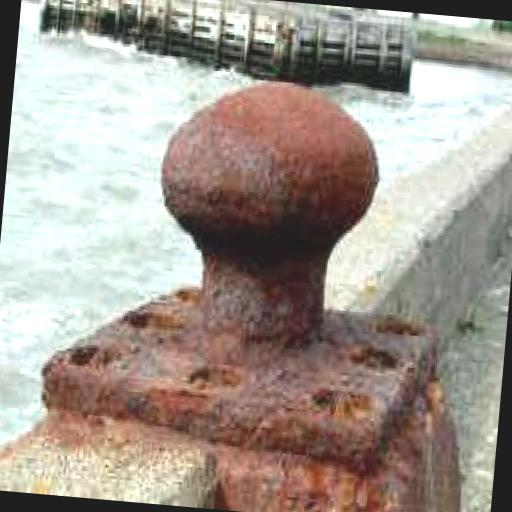corrosion: (44, 83, 461, 512)
